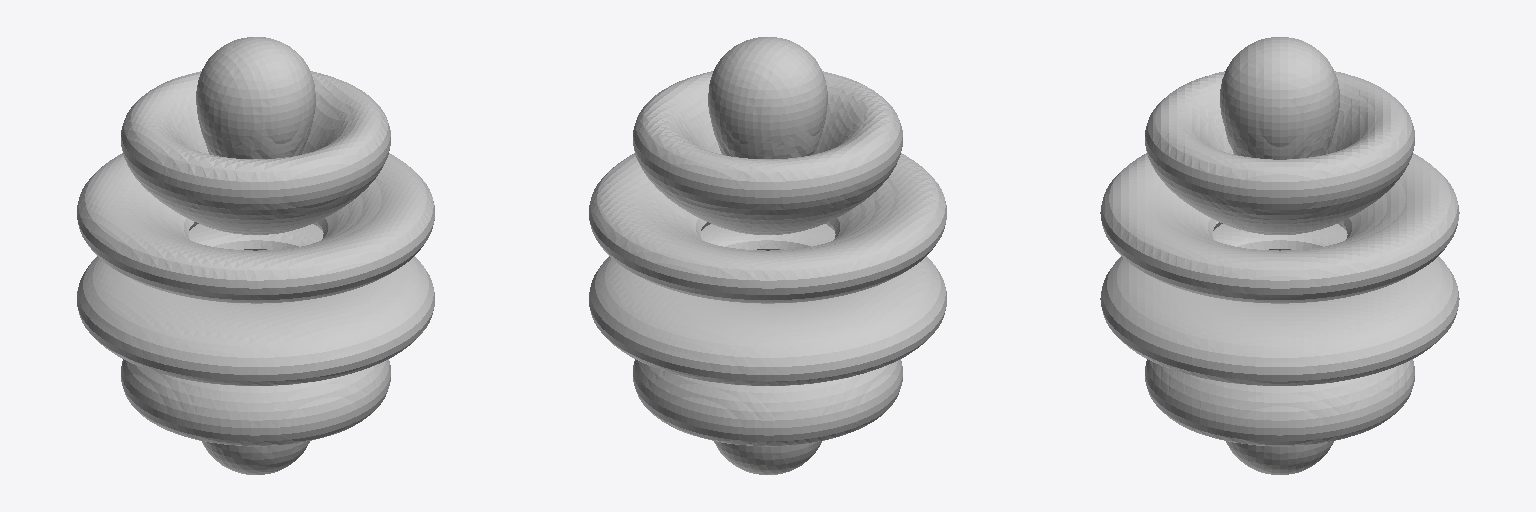
Rendered from orb_n=6_ l=5 _m=0.obj.
The picture shows the model from 3 angles: view 1: azimuth 30°, elevation 25°; view 2: azimuth 150°, elevation 25°; view 3: azimuth 270°, elevation 25°; orthographic projection.
Visible parts, largest first — view 1: orb_n=6__l=5__m=0; view 2: orb_n=6__l=5__m=0; view 3: orb_n=6__l=5__m=0.
Boxes of the visible parts, x1=… form: orb_n=6__l=5__m=0: x1=77, y1=37, x2=434, y2=474; orb_n=6__l=5__m=0: x1=589, y1=37, x2=946, y2=474; orb_n=6__l=5__m=0: x1=1100, y1=37, x2=1459, y2=474.
Size of the model in its own units: 108 by 142 by 108.